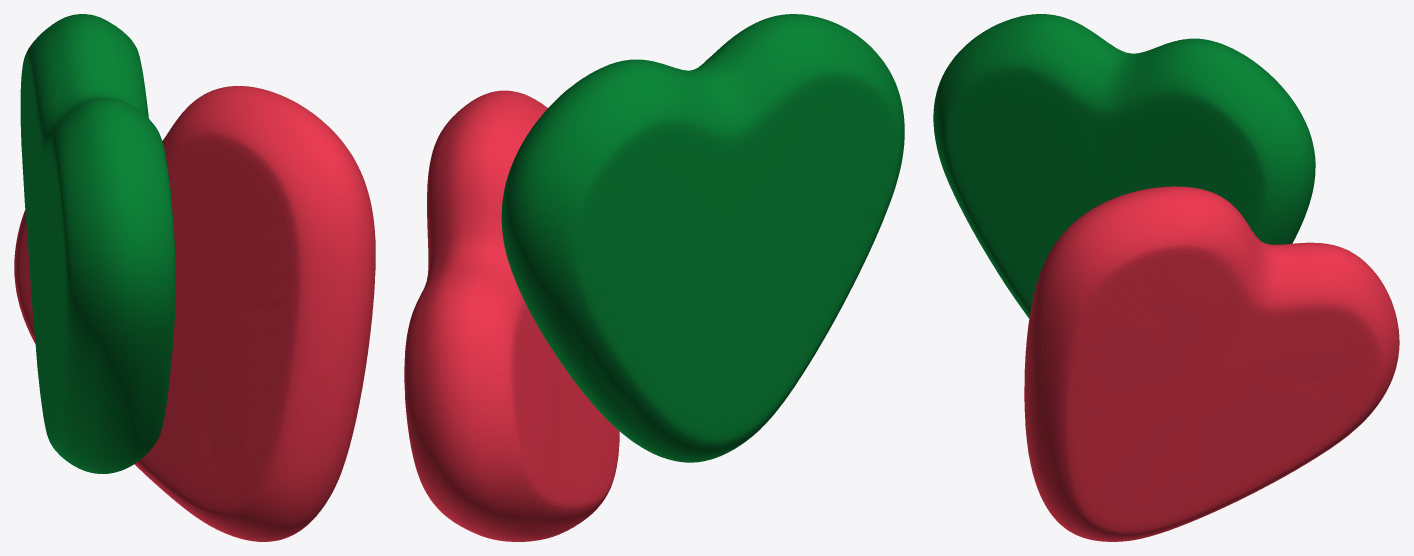
The model's file is heart-draco.glb.
The picture shows the model from 3 angles, left to right: view 1: azimuth 30°, elevation 25°; view 2: azimuth 150°, elevation 25°; view 3: azimuth 270°, elevation 25°; orthographic projection. The views are drawn at different scales.
Visible parts, largest first — view 1: Mesh2; view 2: Mesh2; view 3: Mesh2.
Part boxes in pixels (x1,y1,x2,y2): Mesh2: [14, 14, 375, 541]; Mesh2: [404, 14, 904, 541]; Mesh2: [933, 14, 1399, 541].
Bounding box in the file's own units: 2.94 × 3.94 × 3.75.
